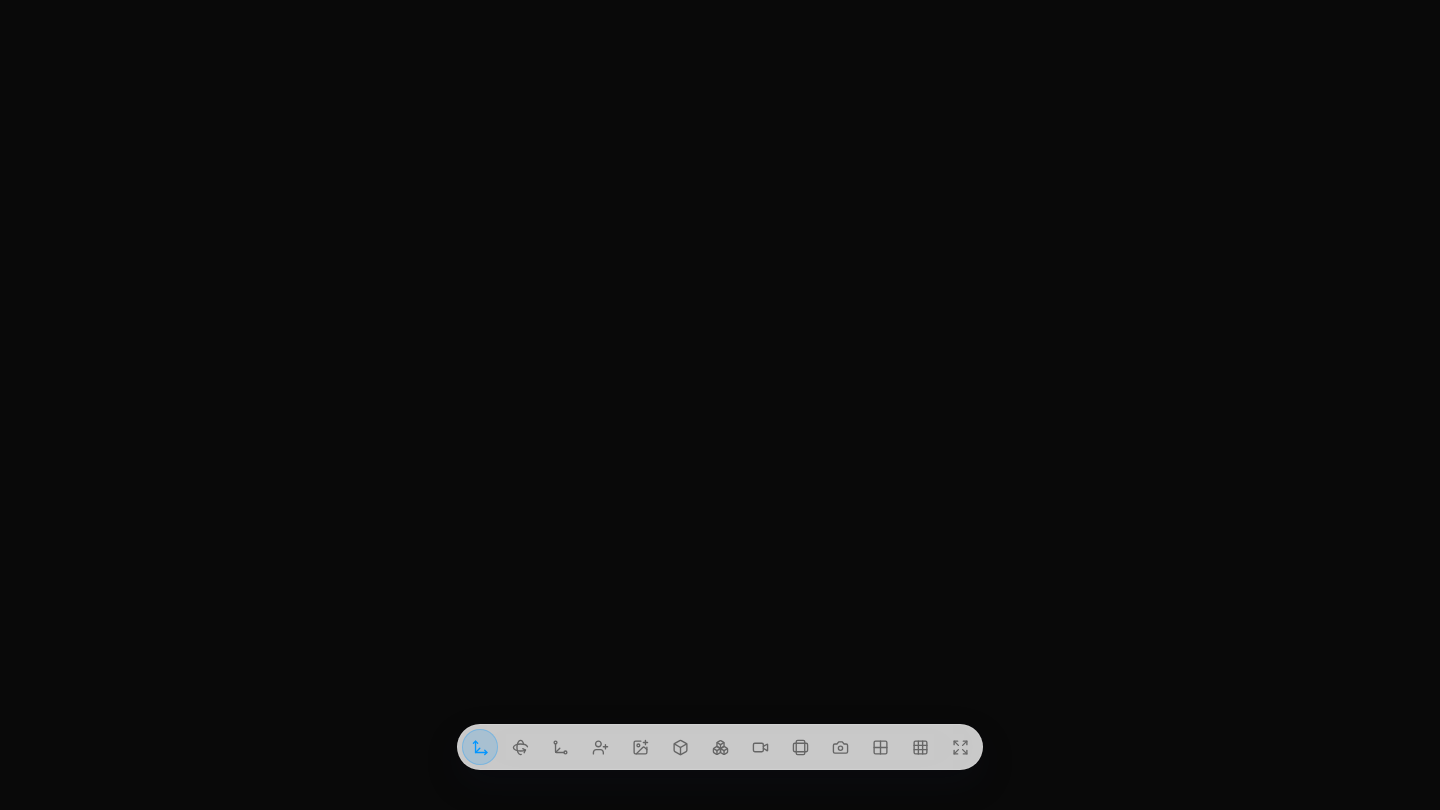
opens the model library panel from the viewport capsule
Click the button named "模型库": coordinates (720, 747) top-left (702, 729), bottom-right (738, 765)
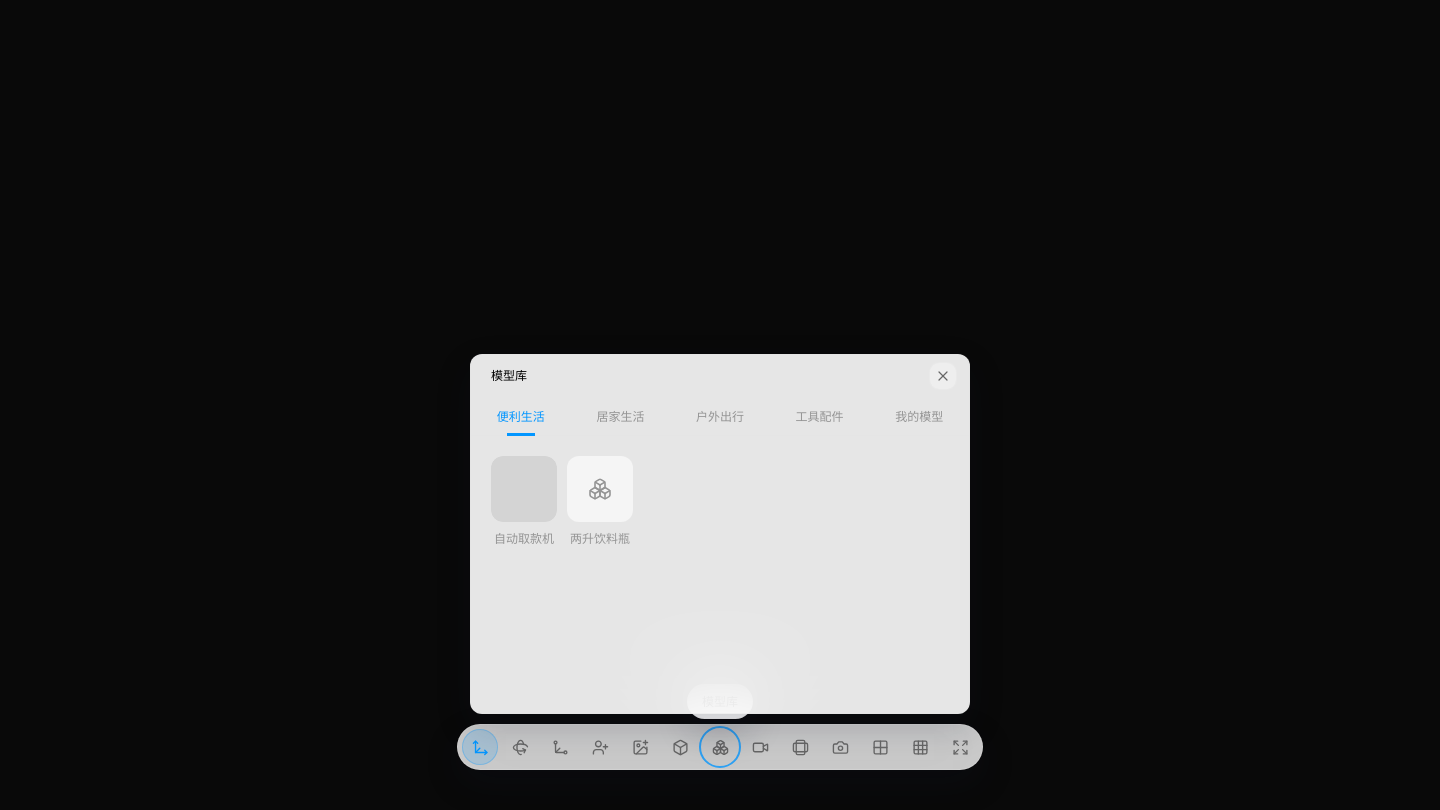
Result: the dialog "模型库" is shown at top-left (470, 354), bottom-right (970, 714)
Result: the tab "居家生活" is shown at top-left (571, 396), bottom-right (670, 436)
Result: the tab "户外出行" is shown at top-left (670, 396), bottom-right (770, 436)
